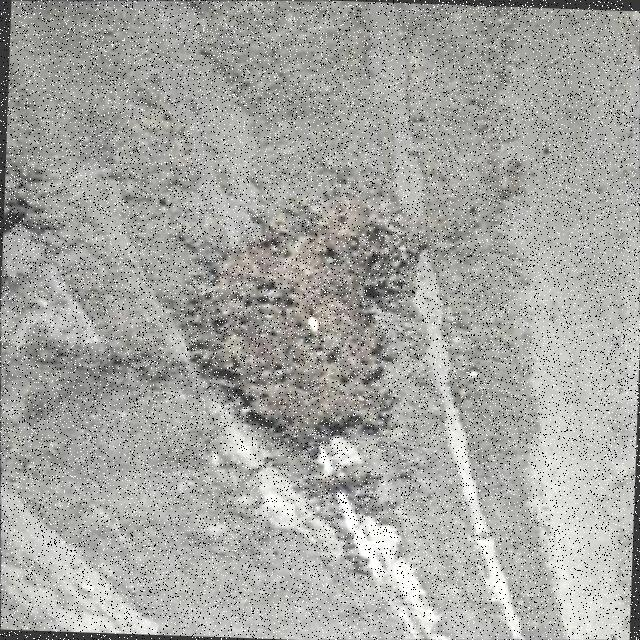Pothole: (188, 195, 411, 443)
